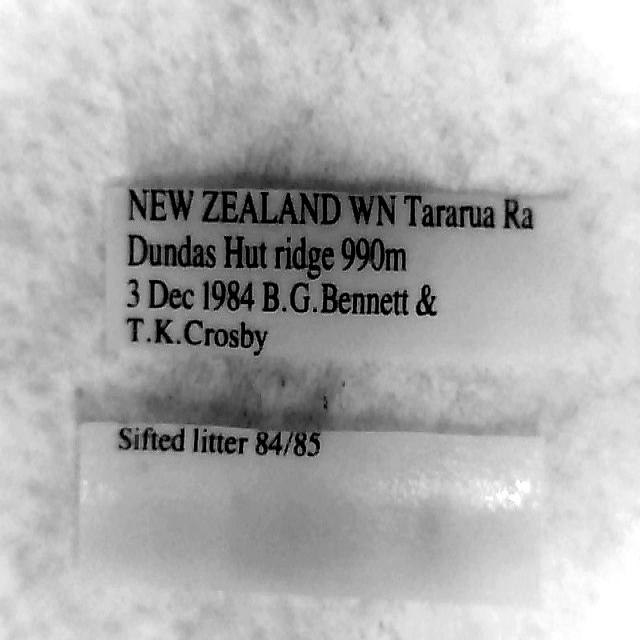typed_label: (79, 422, 544, 602), (106, 185, 569, 362)
